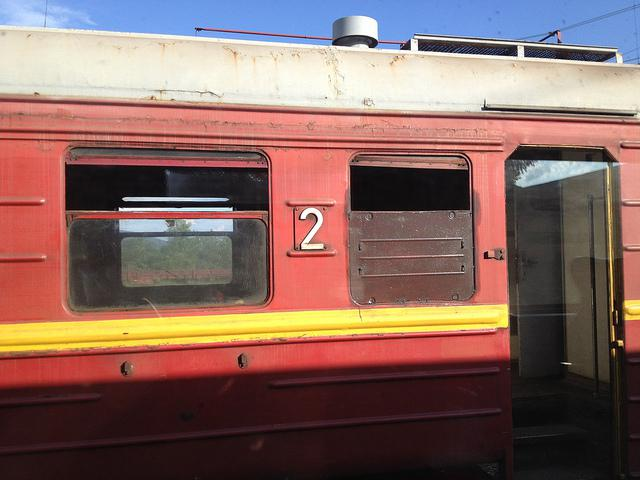Train: (0, 17, 640, 476)
